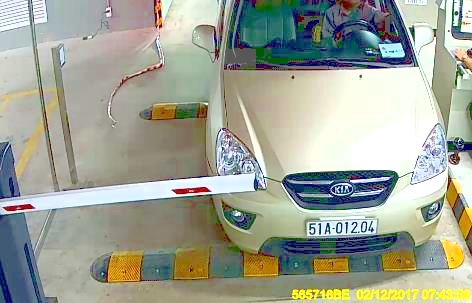plate: (305, 218, 377, 235)
